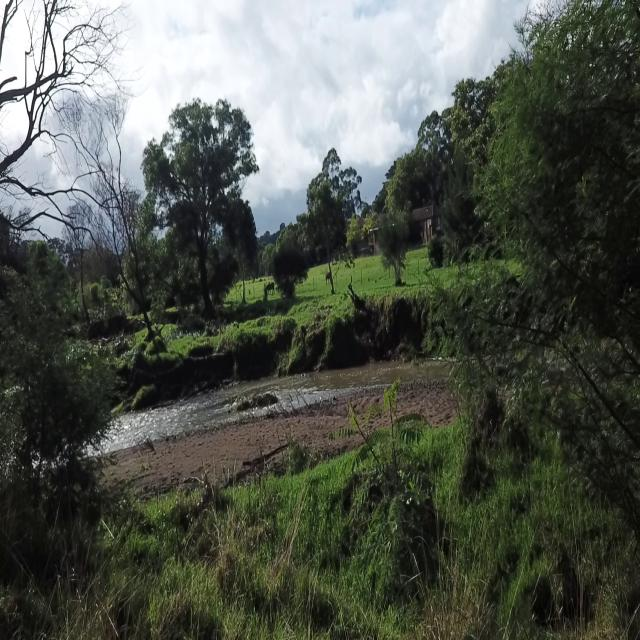Mysore-Thorn-Weed: (330, 369, 443, 583)
